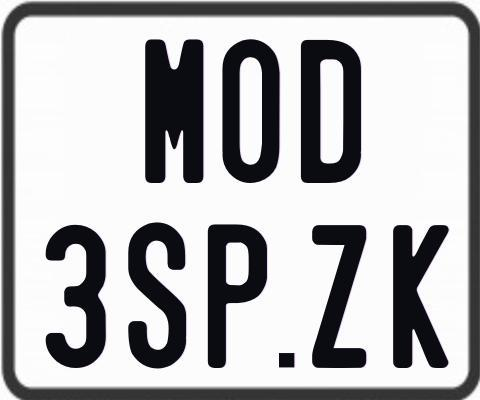0: (221, 38, 285, 183)
3: (45, 225, 108, 373)
D: (301, 37, 364, 183)
K: (390, 224, 446, 368)
M: (142, 38, 203, 186)
P: (207, 222, 271, 366)
S: (127, 220, 190, 370)
Z: (312, 223, 370, 366)
